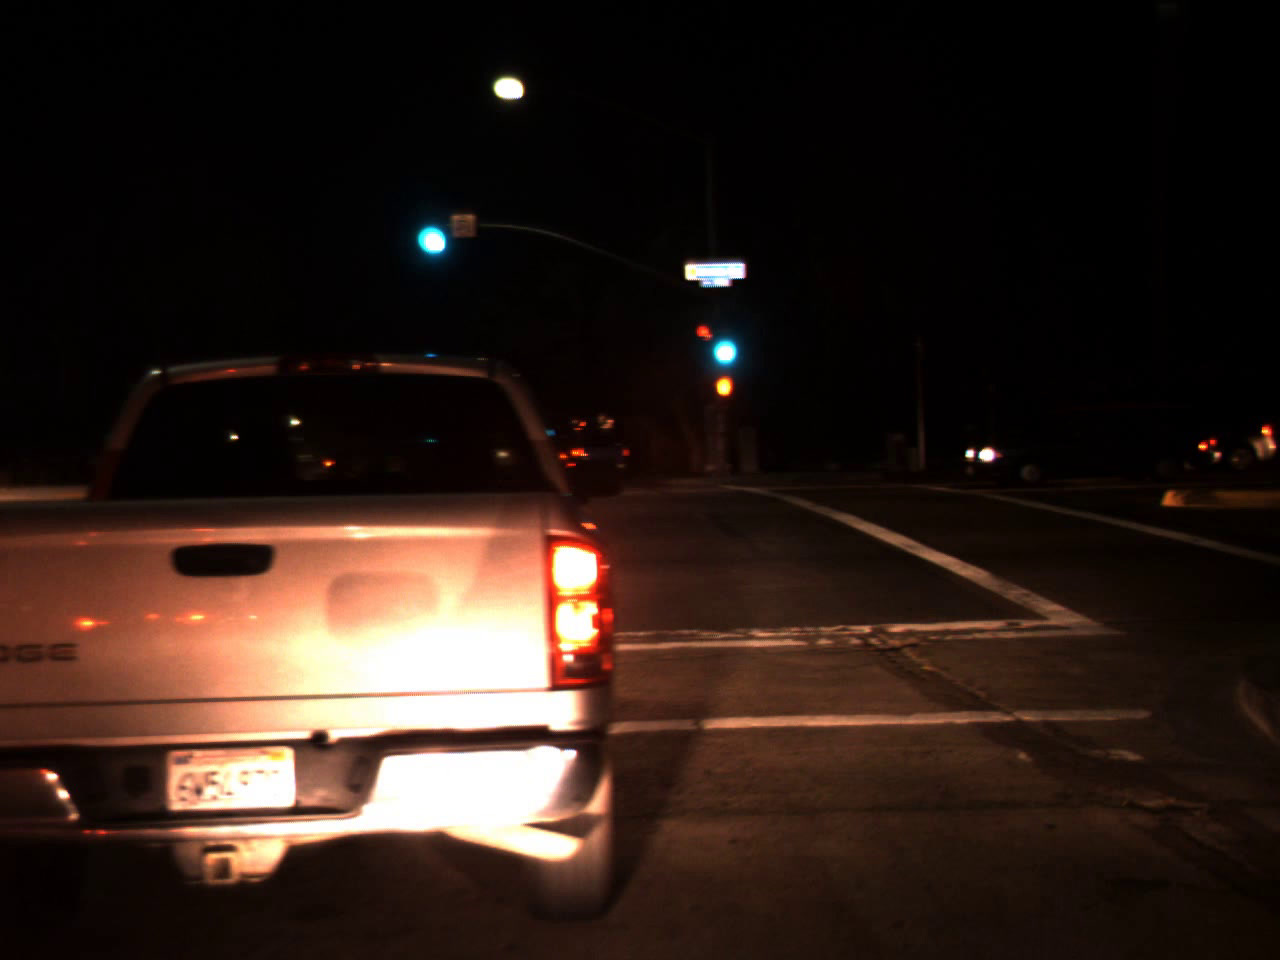go: (406, 190, 452, 265), (703, 306, 742, 375)
